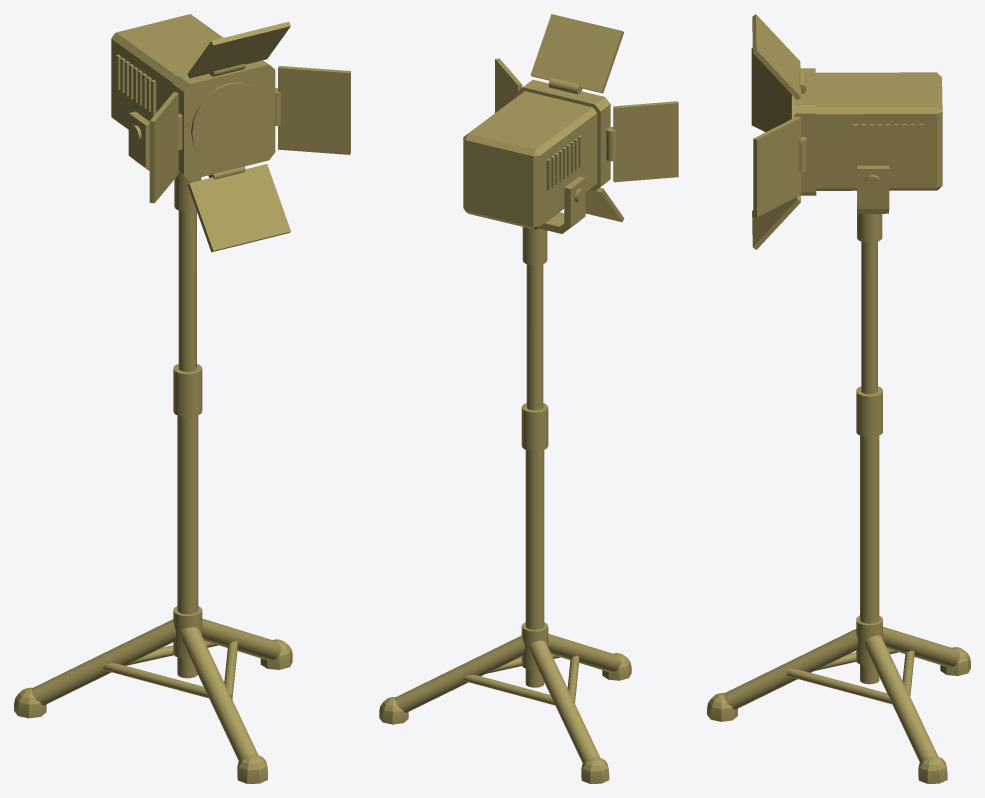
The model's file is Spotlight.fbx.
3 views of the same model, side by side, from view 1: azimuth 30°, elevation 25°; view 2: azimuth 150°, elevation 25°; view 3: azimuth 270°, elevation 25° (orthographic). The views are drawn at different scales.
Visible parts, largest first — view 1: Spotlight; view 2: Spotlight; view 3: Spotlight.
Boxes of the visible parts, x1,y1,x2,y2 form: Spotlight: (14,14,350,783); Spotlight: (379,14,678,783); Spotlight: (707,14,970,783).
Size of the model in its own units: 78.1 by 208 by 72.06.
